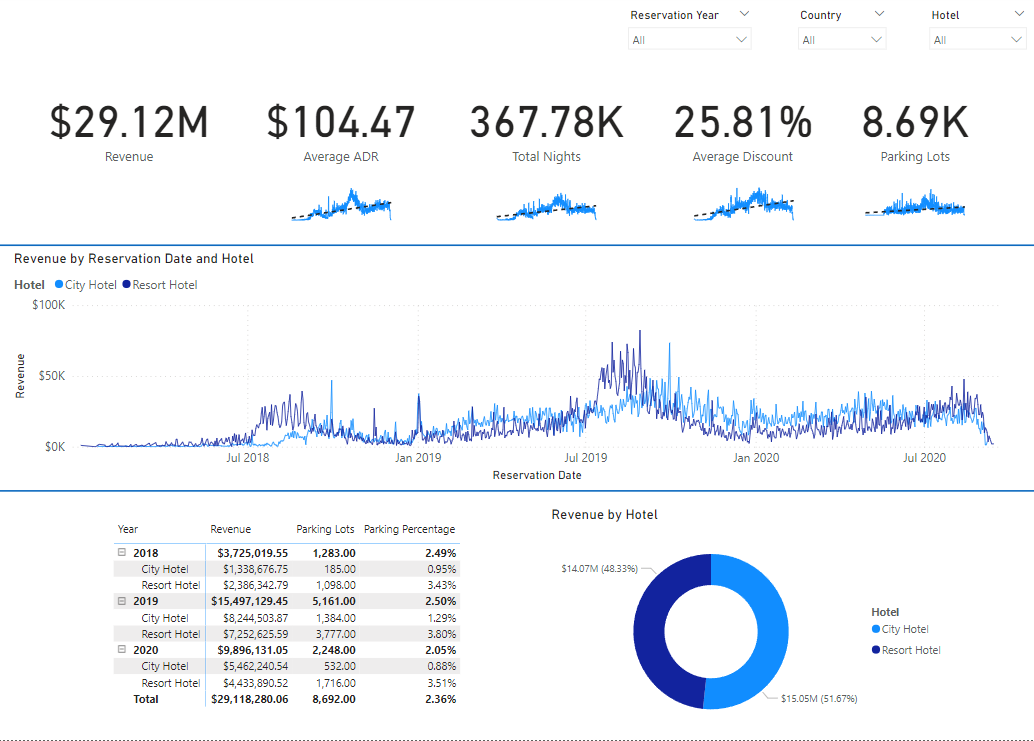

What the dashboard file says about the page in this screenshot:
{"tool":"powerbi","page":{"name":"Hotel","canvas":[1280,920],"ordinal":0},"visuals":[{"type":"shape","box":[0,303.6,1280.6,12.3],"z":0},{"type":"shape","box":[0,605.6,1280.6,13.9],"z":1000},{"type":"card","fields":{"Values":["Sum(Query1.Revenue)"]},"box":[0,83.2,328.2,155.6],"z":2000},{"type":"card","fields":{"Values":["Avg(Query1.adr)"]},"box":[320.5,109.4,209.6,104.8],"z":3000},{"type":"card","fields":{"Values":["Query1.Total Nights"]},"box":[576.3,106.3,205,109.4],"z":4000},{"type":"card","fields":{"Values":["Avg(Query1.Discount)"]},"box":[826,106.3,189.5,109.4],"z":5000},{"type":"lineChart","fields":{"Y":["Sum(Query1.Revenue)"],"Category":["Query1.reservation_status_date"],"Series":["Query1.hotel"]},"box":[17,315.9,1245.2,289.7],"z":6000},{"type":"slicer","fields":{"Values":["Query1.country"]},"box":[978.6,12.3,129.4,60.1],"z":7000},{"type":"slicer","fields":{"Values":["Query1.hotel"]},"box":[1140.4,12.3,140.2,66.3],"z":8000},{"type":"lineChart","fields":{"Category":["Query1.reservation_status_date"],"Y":["Sum(Query1.adr)"]},"box":[349.8,220.4,152.6,64.7],"z":9000},{"type":"lineChart","fields":{"Category":["Query1.reservation_status_date"],"Y":["Query1.Total Nights"]},"box":[602.5,221.9,152.6,63.2],"z":10000},{"type":"lineChart","fields":{"Category":["Query1.reservation_status_date"],"Y":["Sum(Query1.Discount)"]},"box":[846,221.9,152.6,63.2],"z":11000},{"type":"card","fields":{"Values":["Sum(Query1.required_car_parking_spaces)"]},"box":[1043.3,106.3,180.3,109.4],"z":12000},{"type":"lineChart","fields":{"Category":["Query1.reservation_status_date"],"Y":["Sum(Query1.required_car_parking_spaces)"]},"box":[1057.2,215.4,152.6,63.2],"z":13000},{"type":"donutChart","fields":{"Y":["Sum(Query1.Revenue)"],"Category":["Query1.hotel"]},"box":[679.6,631.8,499.3,288.2],"z":14000},{"type":"pivotTable","fields":{"Rows":["Query1.reservation_status_date.Variation.Date Hierarchy.Year","Query1.hotel"],"Values":["Sum(Query1.Revenue)","Sum(Query1.required_car_parking_spaces)","Query1.Parking Percentage"]},"box":[140.2,644.2,477.7,275.8],"z":15000},{"type":"slicer","fields":{"Values":["Query1.reservation_status_date.Variation.Date Hierarchy.Year","Query1.reservation_status_date.Variation.Date Hierarchy.Quarter","Query1.reservation_status_date.Variation.Date Hierarchy.Month","Query1.reservation_status_date.Variation.Date Hierarchy.Day"]},"box":[769,12.3,172.6,89.4],"z":16000}]}

Visuals, with their boxes in screenshot pixels (x1, y1, x2, y2), scaled from the page's 1280x920 canvas onto the 1034x741 screenshot:
shape: {"left": 0, "top": 245, "right": 1033, "bottom": 254}
shape: {"left": 0, "top": 488, "right": 1033, "bottom": 499}
card - Sum(Query1.Revenue): {"left": 0, "top": 67, "right": 265, "bottom": 192}
card - Avg(Query1.adr): {"left": 259, "top": 88, "right": 428, "bottom": 173}
card - Query1.Total Nights: {"left": 466, "top": 86, "right": 631, "bottom": 174}
card - Avg(Query1.Discount): {"left": 667, "top": 86, "right": 820, "bottom": 174}
lineChart - Sum(Query1.Revenue) x Query1.reservation_status_date: {"left": 14, "top": 254, "right": 1020, "bottom": 488}
slicer - Query1.country: {"left": 791, "top": 10, "right": 895, "bottom": 58}
slicer - Query1.hotel: {"left": 921, "top": 10, "right": 1033, "bottom": 63}
lineChart - Query1.reservation_status_date x Sum(Query1.adr): {"left": 283, "top": 178, "right": 406, "bottom": 230}
lineChart - Query1.reservation_status_date x Query1.Total Nights: {"left": 487, "top": 179, "right": 610, "bottom": 230}
lineChart - Query1.reservation_status_date x Sum(Query1.Discount): {"left": 683, "top": 179, "right": 807, "bottom": 230}
card - Sum(Query1.required_car_parking_spaces): {"left": 843, "top": 86, "right": 988, "bottom": 174}
lineChart - Query1.reservation_status_date x Sum(Query1.required_car_parking_spaces): {"left": 854, "top": 173, "right": 977, "bottom": 224}
donutChart - Sum(Query1.Revenue) x Query1.hotel: {"left": 549, "top": 509, "right": 952, "bottom": 740}
pivotTable - Query1.reservation_status_date.Variation.Date Hierarchy.Year x Query1.hotel: {"left": 113, "top": 519, "right": 499, "bottom": 740}
slicer - Query1.reservation_status_date.Variation.Date Hierarchy.Year x Query1.reservation_status_date.Variation.Date Hierarchy.Quarter: {"left": 621, "top": 10, "right": 761, "bottom": 82}
